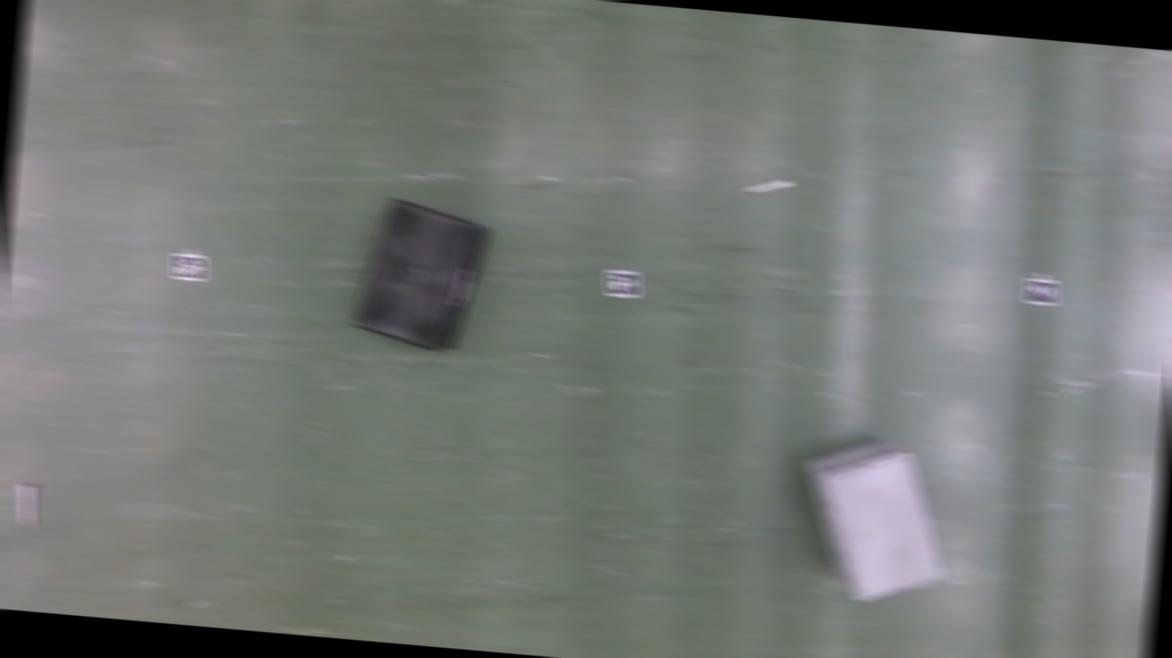probes: (745, 175, 791, 195), (18, 481, 36, 524)
rako: (791, 428, 954, 606), (350, 192, 492, 352)
